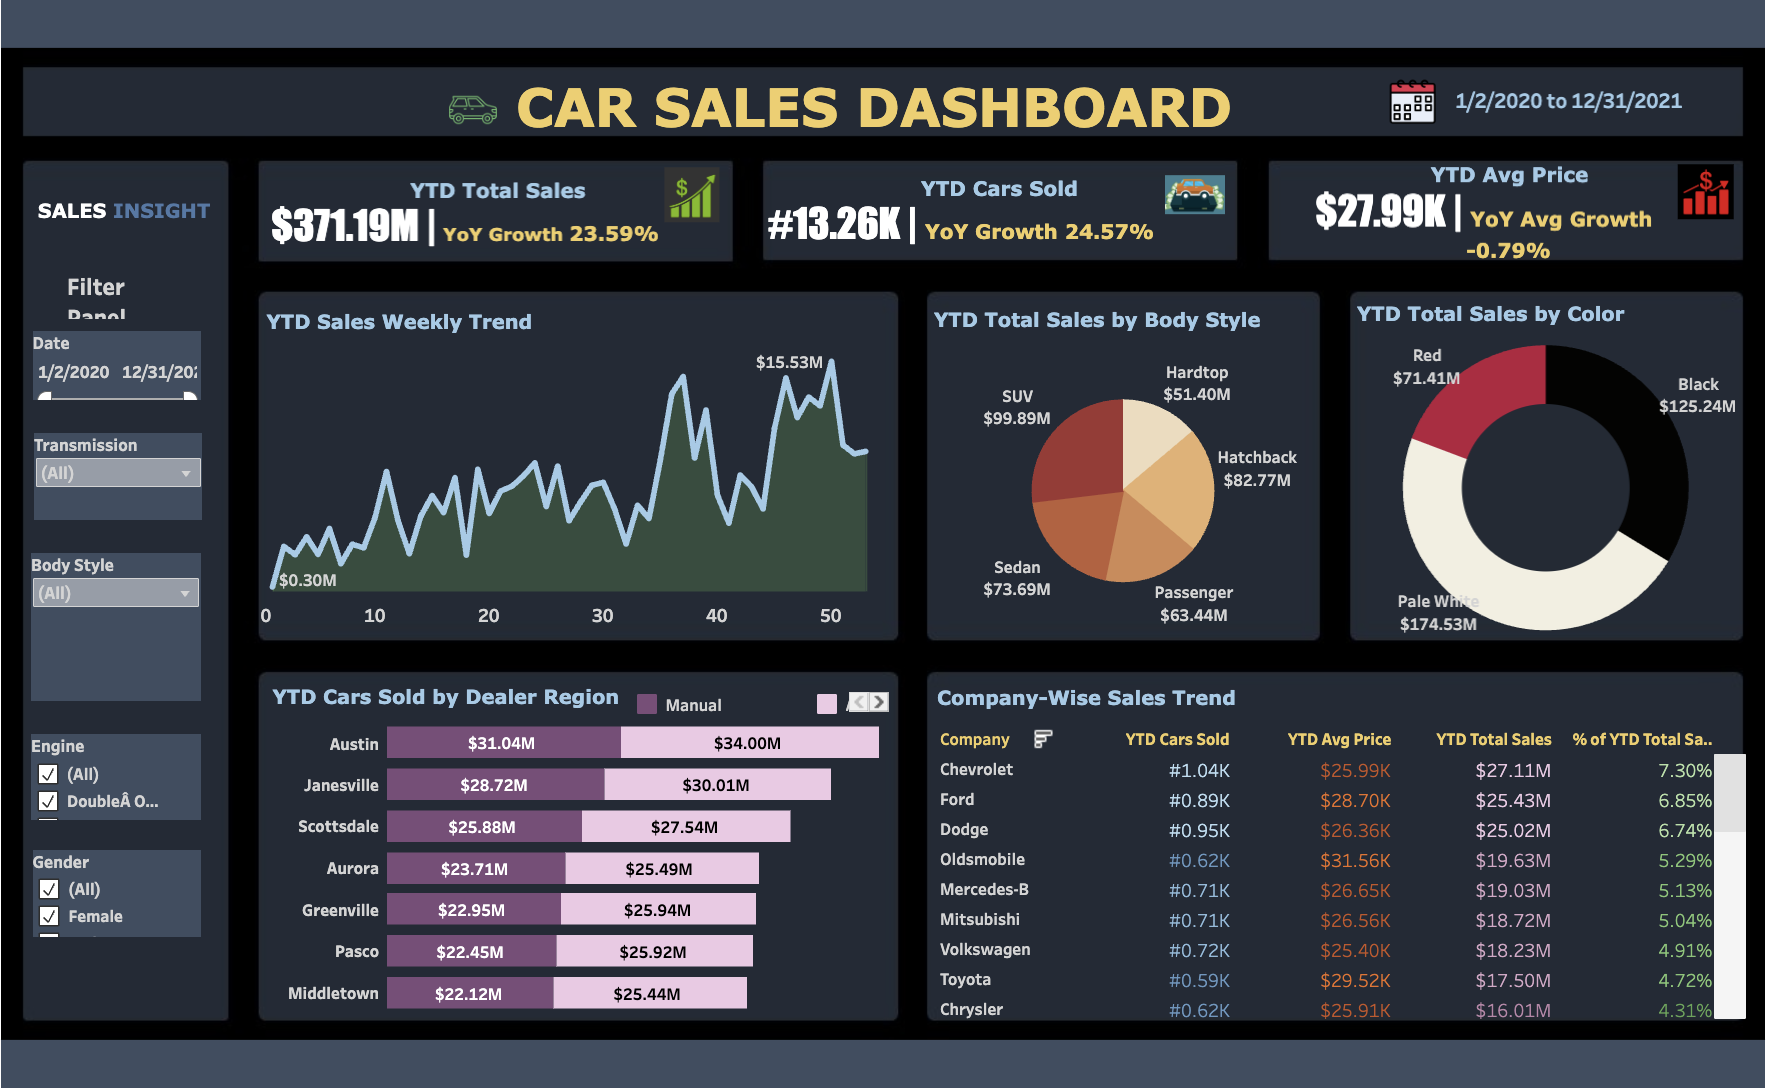

What the dashboard file says about the page in this screenshot:
{"tool":"tableau","page":{"name":"Car Sales Dashboard","canvas":[1200,750],"ordinal":0},"visuals":[{"type":"image","param":"/Users/shubhamk/Documents/GitHub/Car_Sales_Analytics/Car Sales Background.jpg","box":[8,8,1184,734]},{"type":"worksheet","title":"Date Range","mark":"Automatic","box":[968,57,171,44]},{"type":"image","param":"/Users/shubhamk/Documents/GitHub/Car_Sales_Analytics/6324346.png","box":[933,62,40,37]},{"type":"image","param":"/Users/shubhamk/Documents/GitHub/Car_Sales_Analytics/Car Icon.png","box":[302,67,49,38]},{"type":"text","box":[19,68,1150,30]},{"type":"worksheet","title":"YTD Cars Sold","mark":"Automatic","box":[519,120,314,68]},{"type":"worksheet","title":"YTD Avg Price","mark":"Automatic","box":[857,120,318,67]},{"type":"worksheet","title":"YTD Total Sales","mark":"Automatic","box":[184,121,315,68]},{"type":"image","param":"/Users/shubhamk/Documents/GitHub/Car_Sales_Analytics/sales-icon-vector-5750903.j","box":[1129,122,39,37]},{"type":"image","param":"/Users/shubhamk/Documents/GitHub/Car_Sales_Analytics/[number redacted]-[number redacted] co","box":[788,123,40,39]},{"type":"image","param":"/Users/shubhamk/Documents/GitHub/Car_Sales_Analytics/sales-icon-vector-5384284.j","box":[453,124,39,37]},{"type":"text","box":[32,141,124,23]},{"type":"text","box":[56.2,192.8,70.2,31.9]},{"type":"worksheet","title":"YTD Total Sales by Color","mark":"Pie","rows":["Calculation_5791277316487323653","Calculation_5791277316487323653"],"box":[912,207,259,229]},{"type":"worksheet","title":"YTD Total Sales by Body Style","mark":"Pie","box":[630,211,260,225]},{"type":"worksheet","title":"YTD Sales Weekly Trend","mark":"Area","rows":["Calculation_5157184562236837888","Calculation_5157184562236837888"],"cols":["Date"],"box":[185,212,426,225]},{"type":"filter","title":"YTD Sales Weekly Trend","param":"[federated.1fzxh0d18ydmy719emw640av3cic].[none:Date:qk]","box":[33,233,112.3,46.3]},{"type":"filter","title":"YTD Sales Weekly Trend","param":"[federated.1fzxh0d18ydmy719emw640av3cic].[none:Transmission:nk]","box":[33.7,301.4,112.3,57.7]},{"type":"filter","title":"YTD Sales Weekly Trend","param":"[federated.1fzxh0d18ydmy719emw640av3cic].[none:Body Style:nk]","box":[32.3,381.1,112.3,98.7]},{"type":"worksheet","title":"YTD Cars Sold by Dealer Region","mark":"Automatic","rows":["Dealer_Region"],"cols":["Calculation_5157184562236837888"],"box":[189.1,461.6,424.3,226.8]},{"type":"worksheet","title":"Company-Wise Sales Trend","mark":"Automatic","rows":["Company"],"box":[632,463,543,229]},{"type":"legend","title":"YTD Cars Sold by Dealer Region","param":"[federated.1fzxh0d18ydmy719emw640av3cic].[none:Transmission:nk]","box":[433.2,472.2,172.7,20.5]},{"type":"filter","title":"YTD Sales Weekly Trend","param":"[federated.1fzxh0d18ydmy719emw640av3cic].[none:Engine:nk]","box":[32.3,501.8,112.3,57.7]},{"type":"filter","title":"YTD Sales Weekly Trend","param":"[federated.1fzxh0d18ydmy719emw640av3cic].[none:Gender:nk]","box":[33,579.2,112.3,57.7]}]}

Visuals, with their boxes in screenshot pixels (x1, y1, x2, y2), scaled from the page's 1200x750 canvas onto the 1766x1088 screenshot:
image: [left=12, top=12, right=1754, bottom=1076]
"Date Range" worksheet: [left=1425, top=83, right=1676, bottom=147]
image: [left=1373, top=90, right=1432, bottom=144]
image: [left=444, top=97, right=517, bottom=152]
text: [left=28, top=99, right=1720, bottom=142]
"YTD Cars Sold" worksheet: [left=764, top=174, right=1226, bottom=273]
"YTD Avg Price" worksheet: [left=1261, top=174, right=1729, bottom=271]
"YTD Total Sales" worksheet: [left=271, top=176, right=734, bottom=274]
image: [left=1662, top=177, right=1719, bottom=231]
image: [left=1160, top=178, right=1219, bottom=235]
image: [left=667, top=180, right=724, bottom=234]
text: [left=47, top=205, right=230, bottom=238]
text: [left=83, top=280, right=186, bottom=326]
"YTD Total Sales by Color" worksheet (Pie marks): [left=1342, top=300, right=1723, bottom=632]
"YTD Total Sales by Body Style" worksheet (Pie marks): [left=927, top=306, right=1310, bottom=632]
"YTD Sales Weekly Trend" worksheet (Area marks): [left=272, top=308, right=899, bottom=634]
"YTD Sales Weekly Trend" filter: [left=49, top=338, right=214, bottom=405]
"YTD Sales Weekly Trend" filter: [left=50, top=437, right=215, bottom=521]
"YTD Sales Weekly Trend" filter: [left=48, top=553, right=213, bottom=696]
"YTD Cars Sold by Dealer Region" worksheet: [left=278, top=670, right=903, bottom=999]
"Company-Wise Sales Trend" worksheet: [left=930, top=672, right=1729, bottom=1004]
"YTD Cars Sold by Dealer Region" legend: [left=638, top=685, right=892, bottom=715]
"YTD Sales Weekly Trend" filter: [left=48, top=728, right=213, bottom=812]
"YTD Sales Weekly Trend" filter: [left=49, top=840, right=214, bottom=924]
